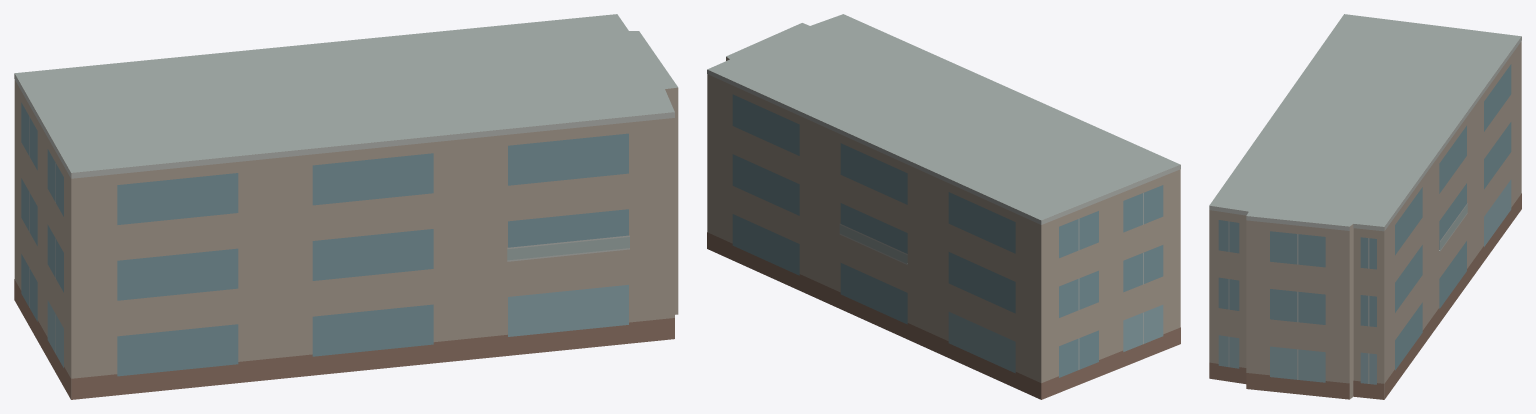
The model's file is survey-upis-32950150.glb.
3 renders of one model, left to right at view 1: azimuth 30°, elevation 25°; view 2: azimuth 150°, elevation 25°; view 3: azimuth 270°, elevation 25°, orthographic. The views are drawn at different scales.
Visible parts, largest first — view 1: survey-upis-32950150.tmp; view 2: survey-upis-32950150.tmp; view 3: survey-upis-32950150.tmp.
Part boxes in pixels (box(x1,y1,x2,y2)): survey-upis-32950150.tmp: box(14, 14, 678, 399); survey-upis-32950150.tmp: box(707, 14, 1180, 399); survey-upis-32950150.tmp: box(1209, 14, 1521, 399).
Bounding box in the file's own units: 25.36 × 9.6 × 15.74.
